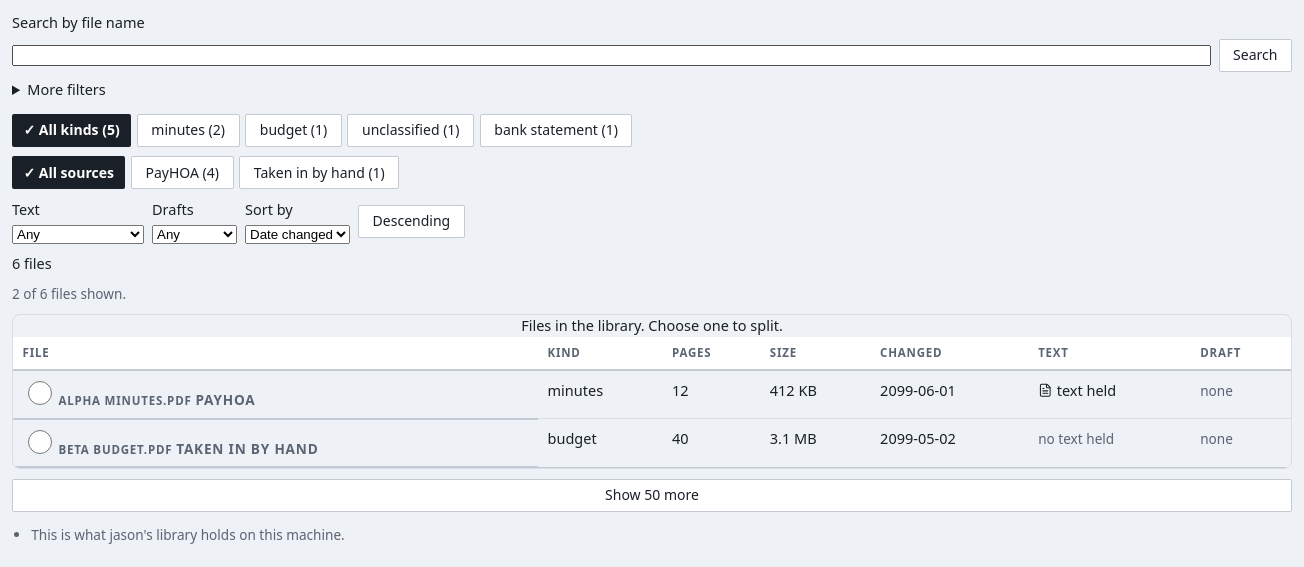
Test: the library browser › shows 50 more by the server's token and keeps the rows it has
Expected: the text with test id "lib-count" shows "2 of 6 files shown", [12,284,122,304]
Click the button "Show 50 more".
click(652, 496)  # box [12,479,1292,512]
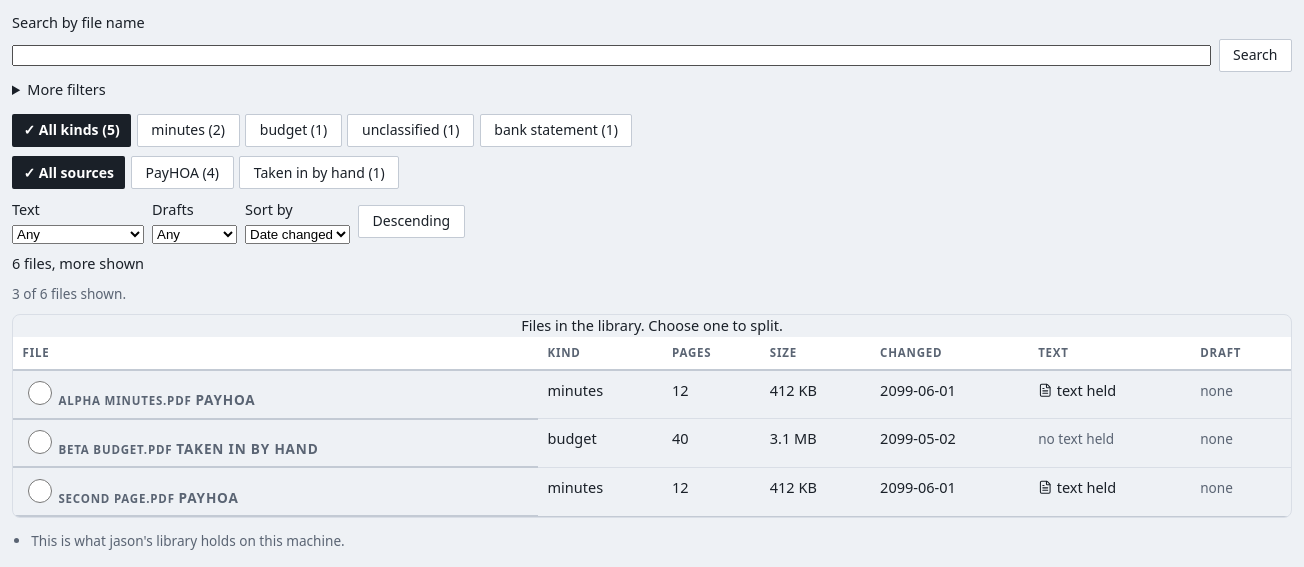
Expected: the text "Second Page.pdf" is shown, [58,490,175,506]
Expected: the text with test id "lib-count" shows "3 of 6 files shown", [12,284,122,304]
Expected: the button "Show 50 more" is gone
